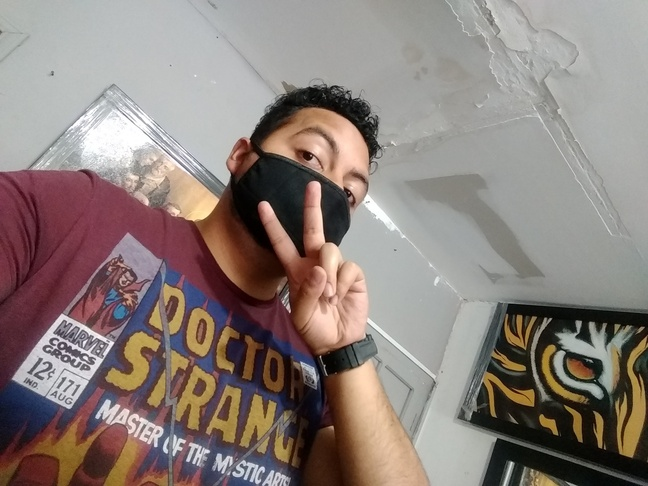Yoshi: (204, 51, 430, 290)
